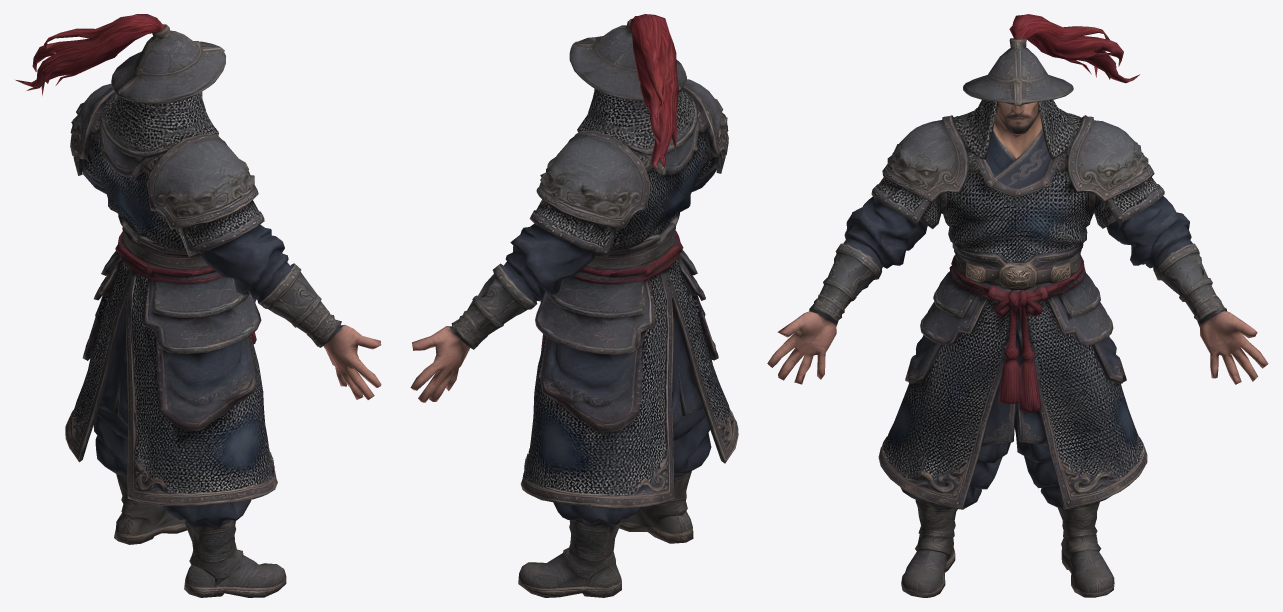
Rendered from chain-2_segmented.glb.
3 renders of one model, left to right at view 1: azimuth 30°, elevation 25°; view 2: azimuth 150°, elevation 25°; view 3: azimuth 270°, elevation 25°, orthographic. The views are drawn at different scales.
Visible parts, largest first — view 1: tripo_part_0, tripo_part_1, tripo_part_2, tripo_part_5, tripo_part_4, tripo_part_3, tripo_part_6, tripo_part_8; view 2: tripo_part_0, tripo_part_1, tripo_part_2, tripo_part_3, tripo_part_7, tripo_part_4, tripo_part_6, tripo_part_8; view 3: tripo_part_0, tripo_part_1, tripo_part_2, tripo_part_5, tripo_part_7, tripo_part_3, tripo_part_4, tripo_part_6, tripo_part_8.
Boxes of the visible parts, <box> form: tripo_part_0: <box>65,233,277,506</box>; tripo_part_1: <box>70,83,288,299</box>; tripo_part_2: <box>100,25,225,157</box>; tripo_part_5: <box>257,262,381,399</box>; tripo_part_4: <box>15,14,166,95</box>; tripo_part_3: <box>93,408,187,544</box>; tripo_part_6: <box>162,500,251,586</box>; tripo_part_8: <box>184,555,286,597</box>; tripo_part_0: <box>520,233,738,508</box>; tripo_part_1: <box>505,79,728,300</box>; tripo_part_2: <box>569,18,697,155</box>; tripo_part_3: <box>518,502,642,597</box>; tripo_part_7: <box>410,262,538,402</box>; tripo_part_4: <box>628,14,678,168</box>; tripo_part_6: <box>640,408,711,527</box>; tripo_part_8: <box>619,509,693,543</box>; tripo_part_0: <box>878,266,1147,509</box>; tripo_part_1: <box>844,115,1191,294</box>; tripo_part_2: <box>953,38,1083,159</box>; tripo_part_5: <box>767,238,882,384</box>; tripo_part_7: <box>1153,238,1268,384</box>; tripo_part_3: <box>1014,419,1114,597</box>; tripo_part_4: <box>1009,14,1139,83</box>; tripo_part_6: <box>900,409,1017,561</box>; tripo_part_8: <box>901,546,955,597</box>.
Bounding box in the file's own units: 0.3497 × 1 × 0.8381.
9 materials, 9 textured.
